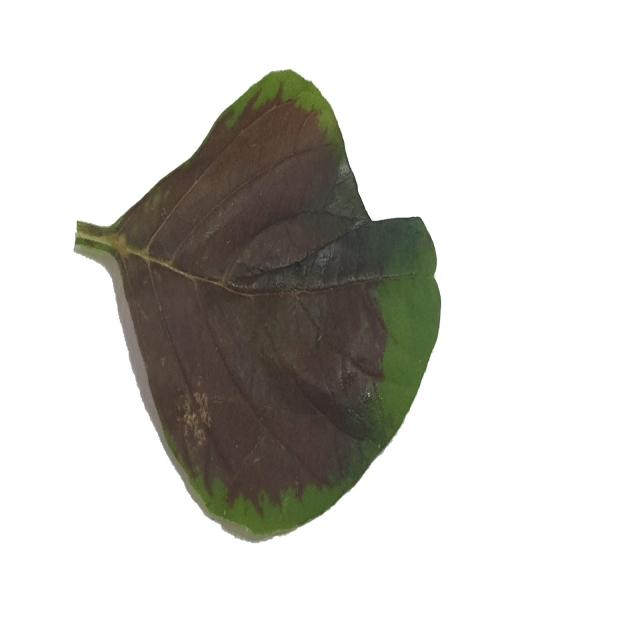Medicinal-Arive Dantu: (74, 63, 442, 539)
